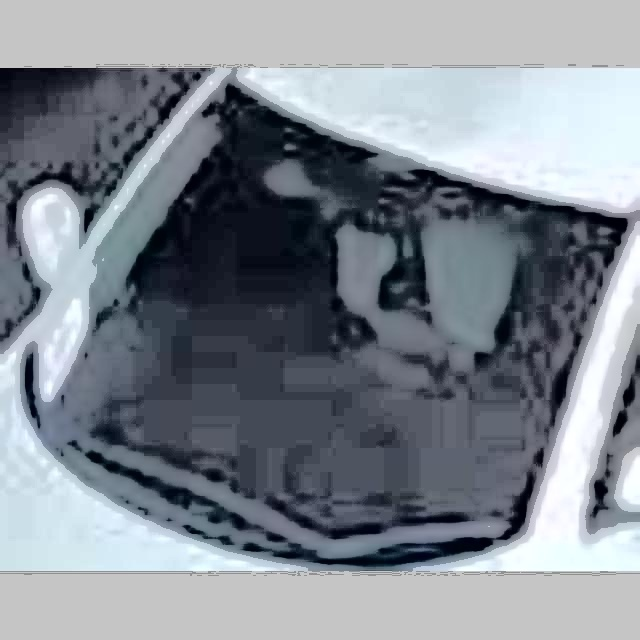tidak-pakai: (302, 175, 504, 376)
